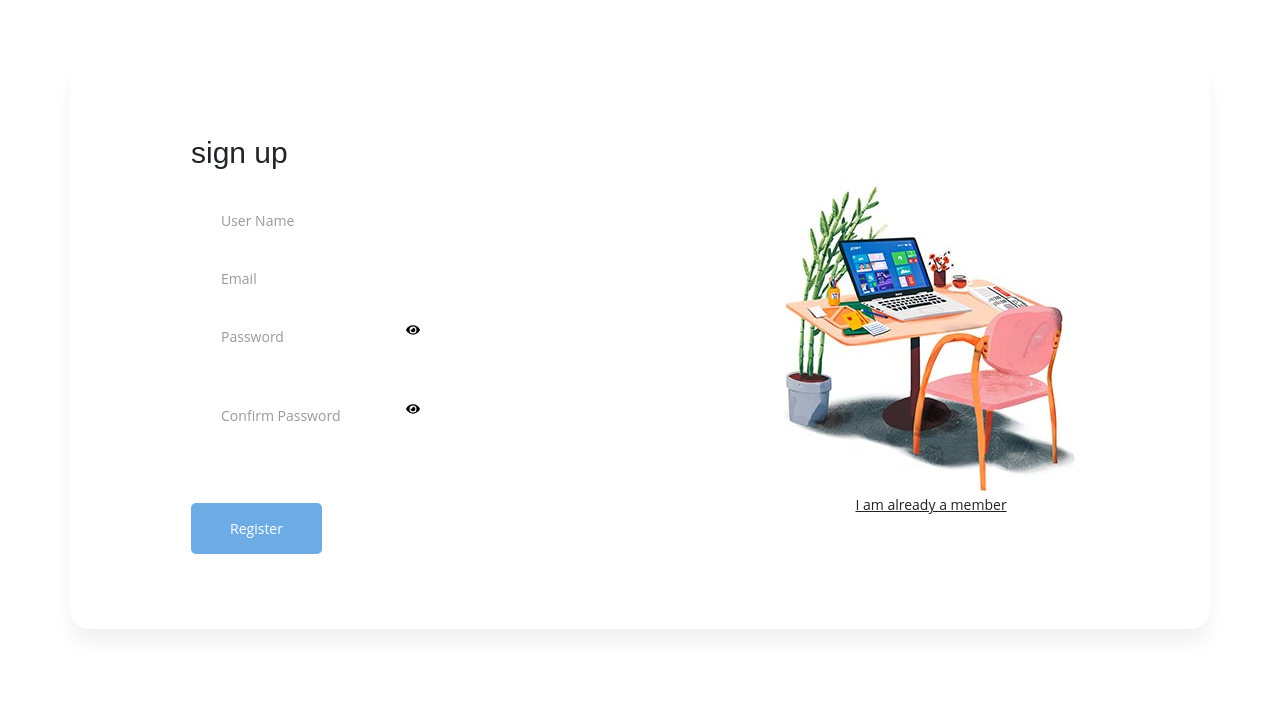
Test: UserSignup component › password mismatch
This screenshot has width=1280, height=720.
Click the button "Register": [256, 528] box [191,503,322,554]
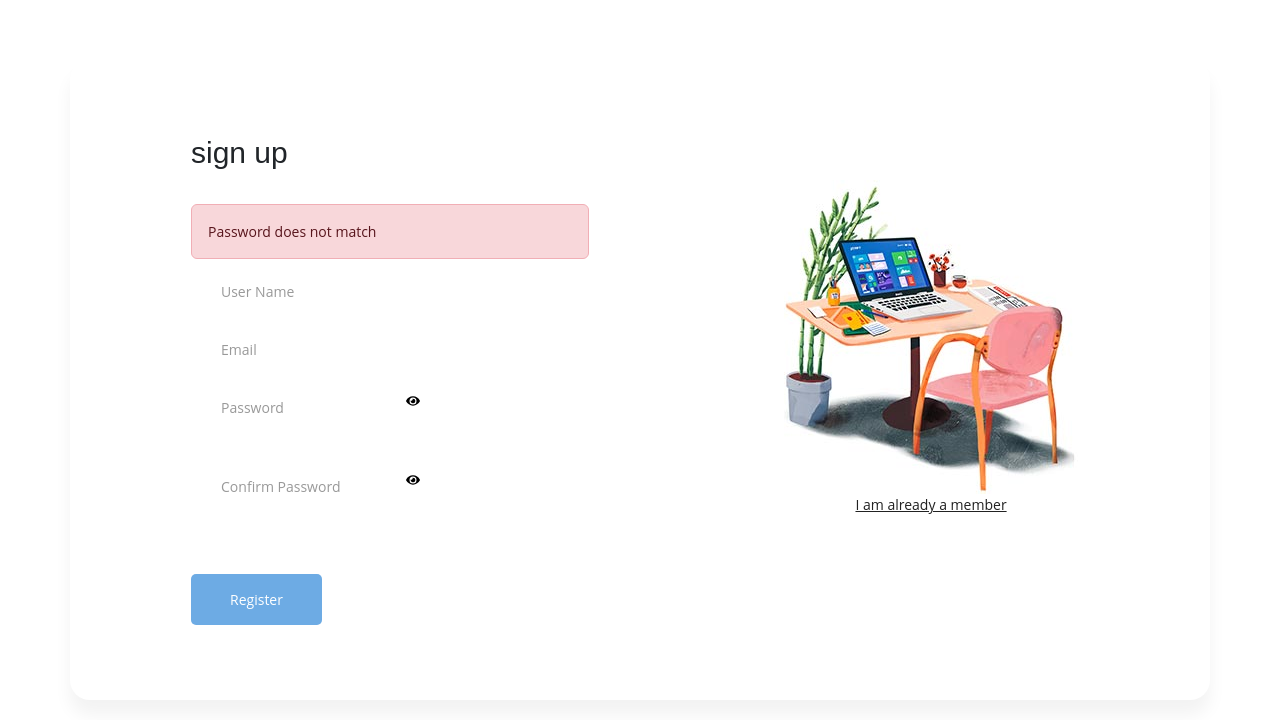
Expected: the text "Password does not match" is shown, [191,204,589,259]
